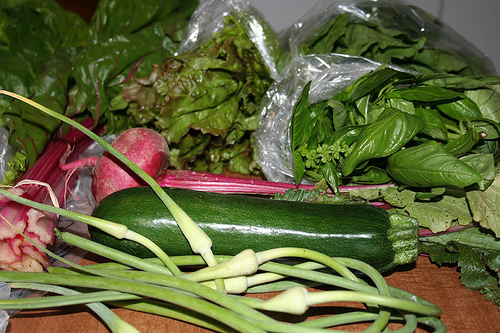turnip: (59, 128, 169, 202)
